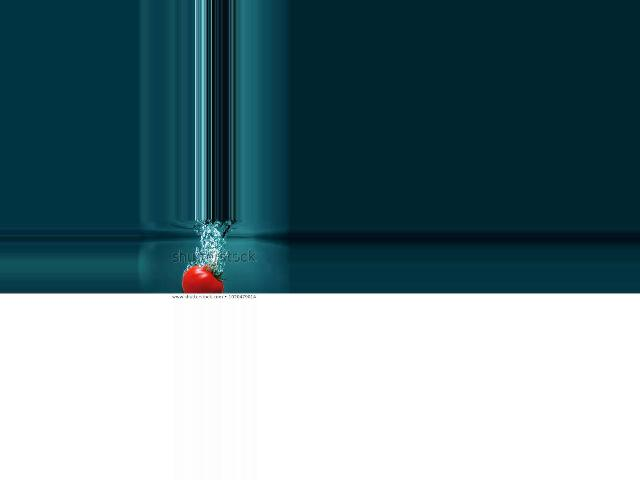tomato: (182, 265, 224, 293)
